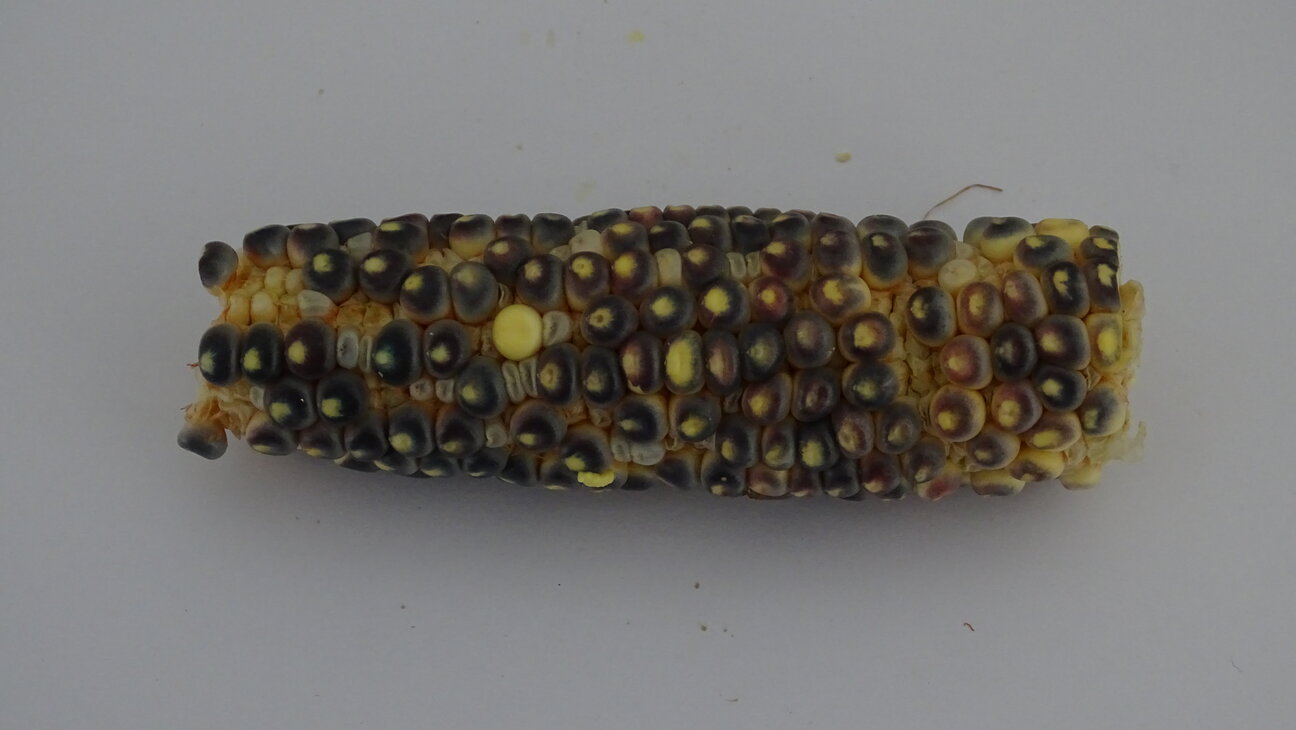corn: (489, 306, 542, 358)
